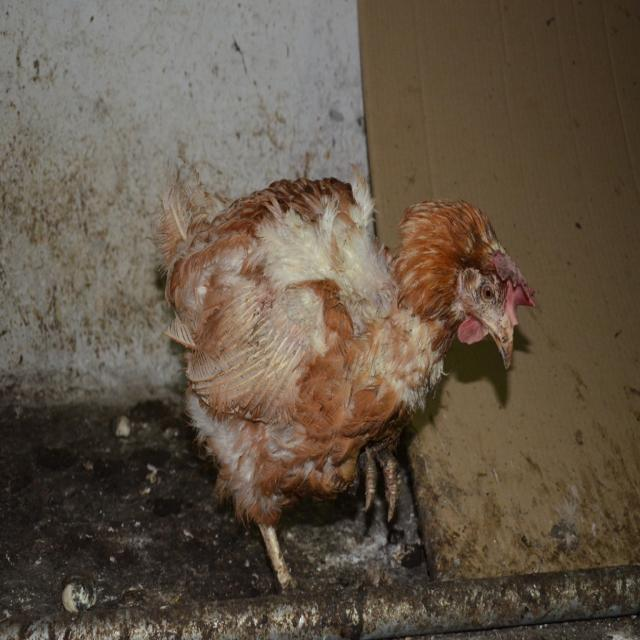Chicken: (144, 155, 536, 601)
